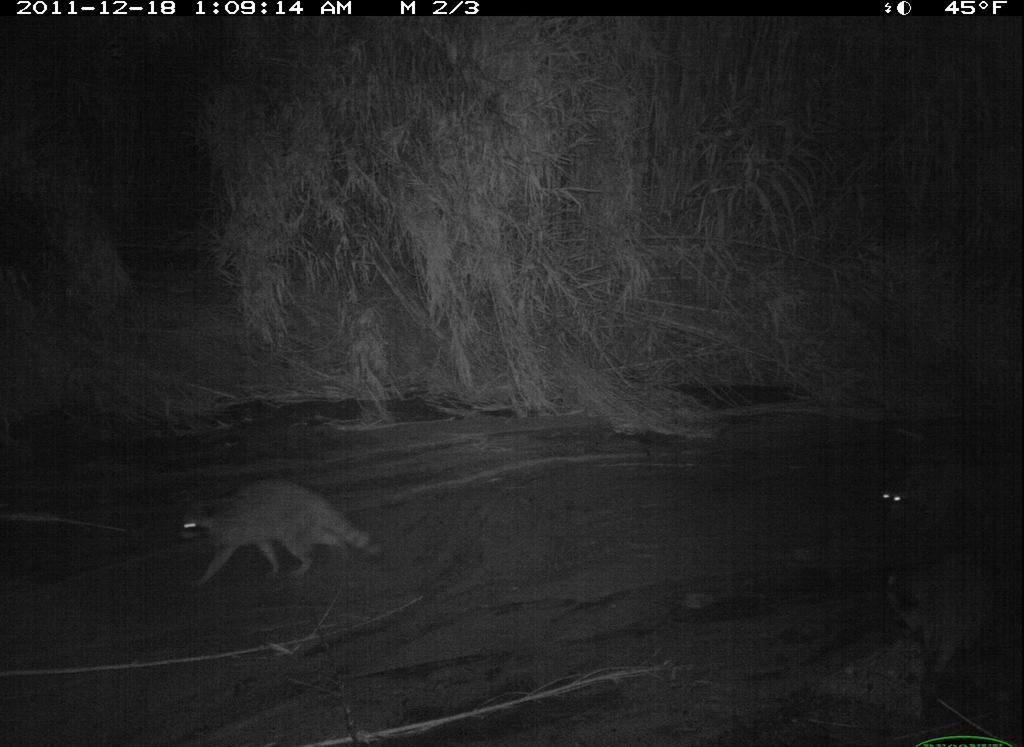raccoon: (168, 472, 382, 602), (865, 450, 1023, 548)
